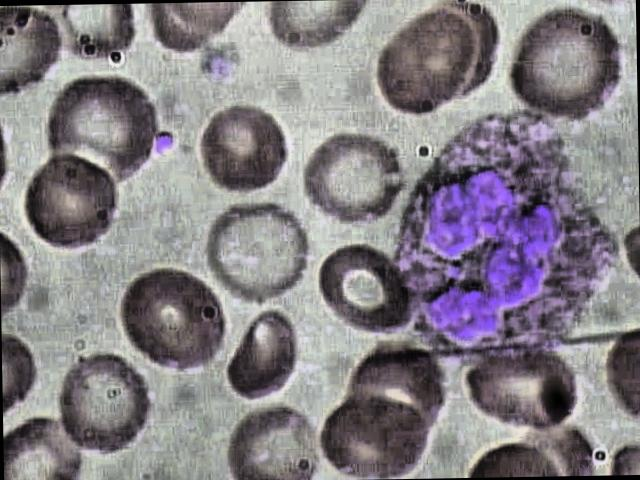Platelets: (197, 43, 240, 85), (145, 128, 178, 158)
RBC: (40, 66, 165, 193), (500, 4, 631, 124), (367, 0, 487, 119), (116, 260, 232, 376), (203, 193, 317, 305), (298, 126, 411, 234), (49, 346, 151, 460), (457, 346, 591, 432), (314, 238, 422, 341), (21, 150, 124, 255), (312, 392, 427, 479), (190, 100, 290, 200), (226, 399, 321, 480), (227, 308, 298, 409)
WBC: (377, 105, 621, 368)
